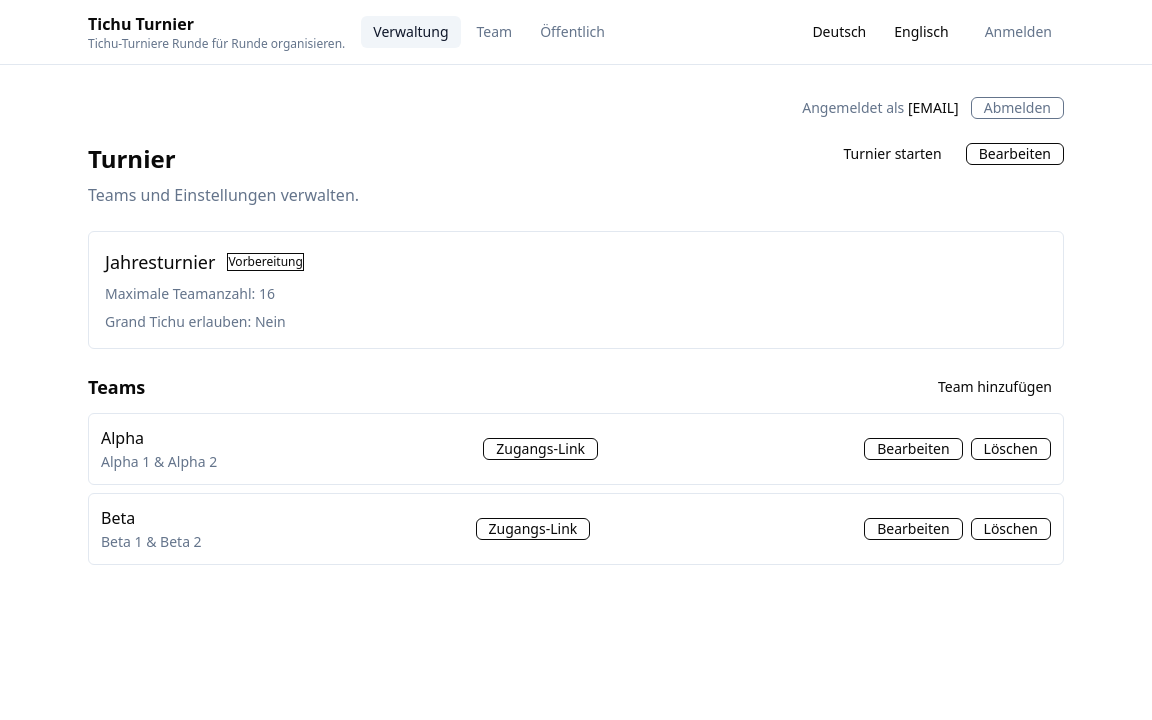
admin start action › shows the localized server error when starting is rejected
The image size is (1152, 720).
Click the button "Turnier starten" at (893, 154), box [832,144,954,164]
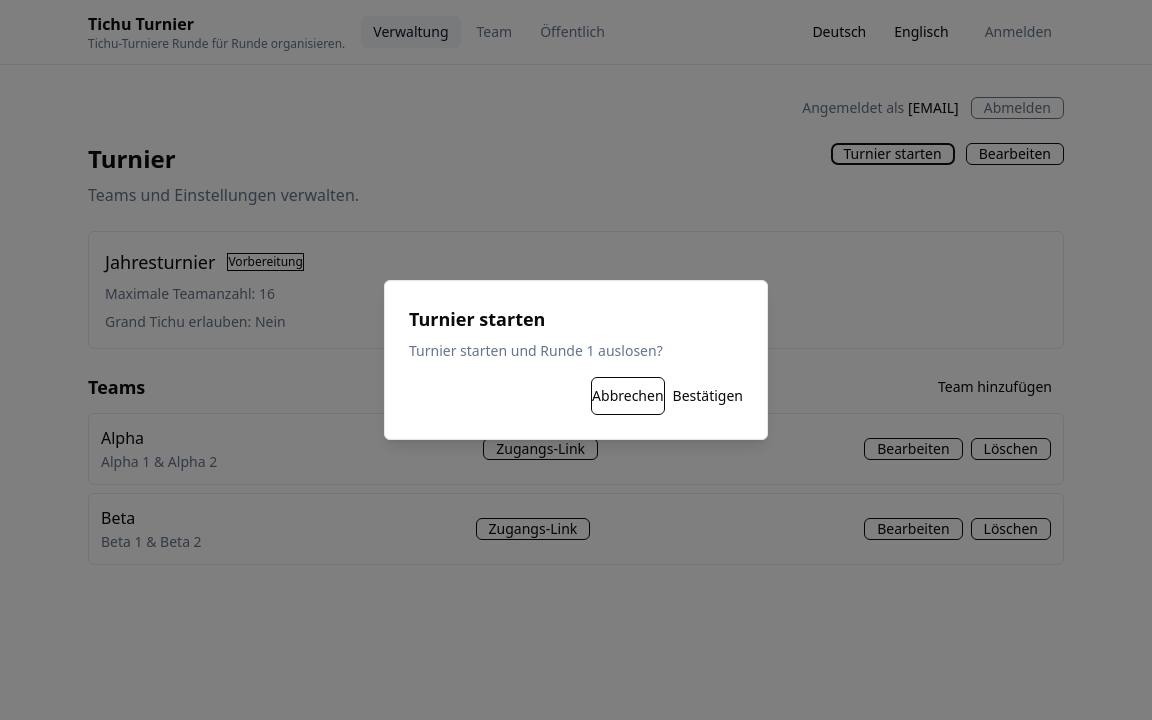
Click the button "Bestätigen" at (708, 396), box [673,377,743,415]
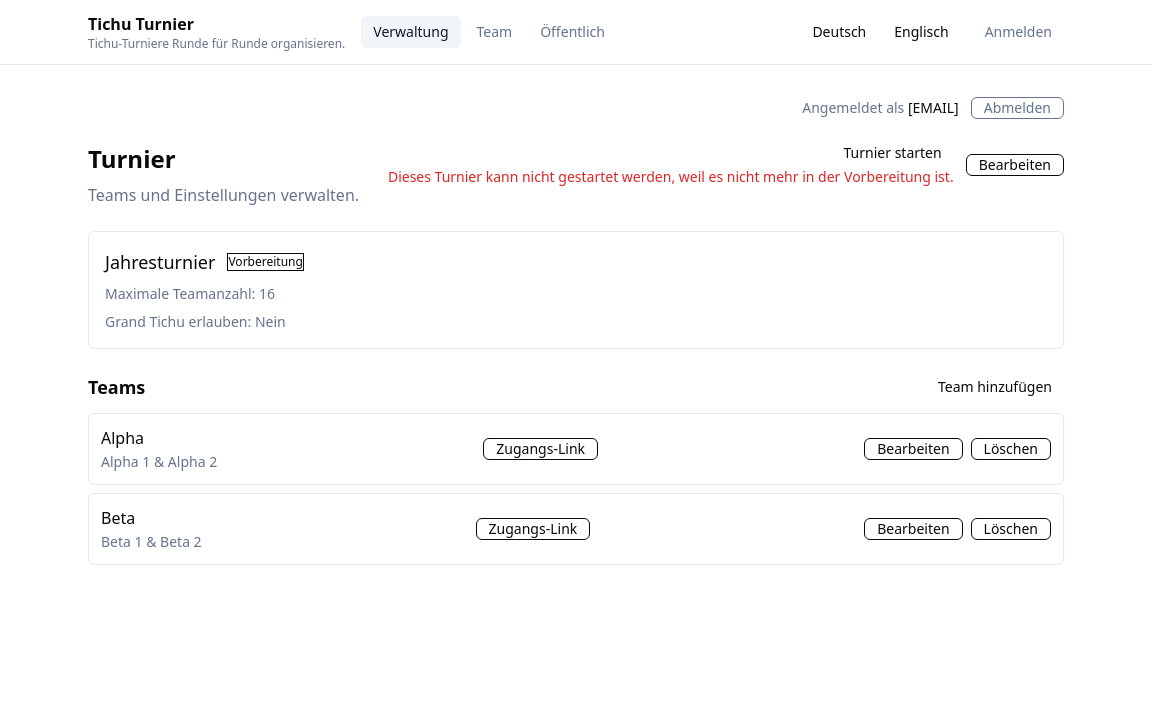
Result: the text "Dieses Turnier kann nicht gestartet werden, weil es nicht mehr in der Vorbereitung ist." is shown at [388,167,954,186]
